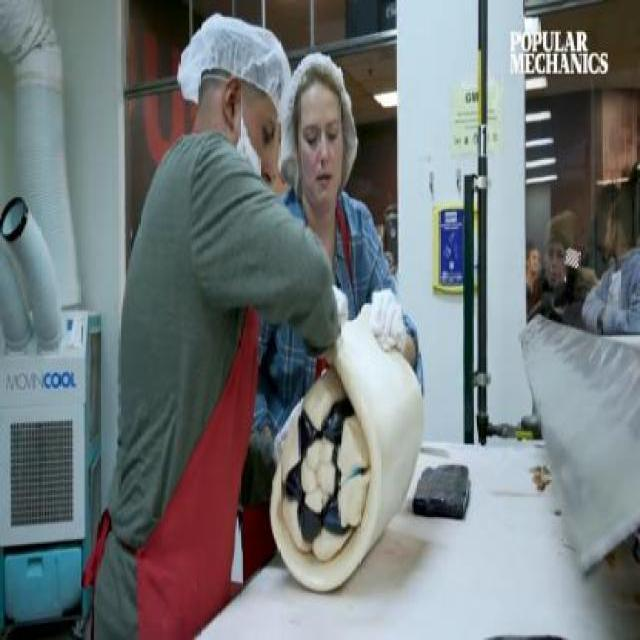hairnet: (180, 18, 286, 111), (284, 53, 359, 113)
